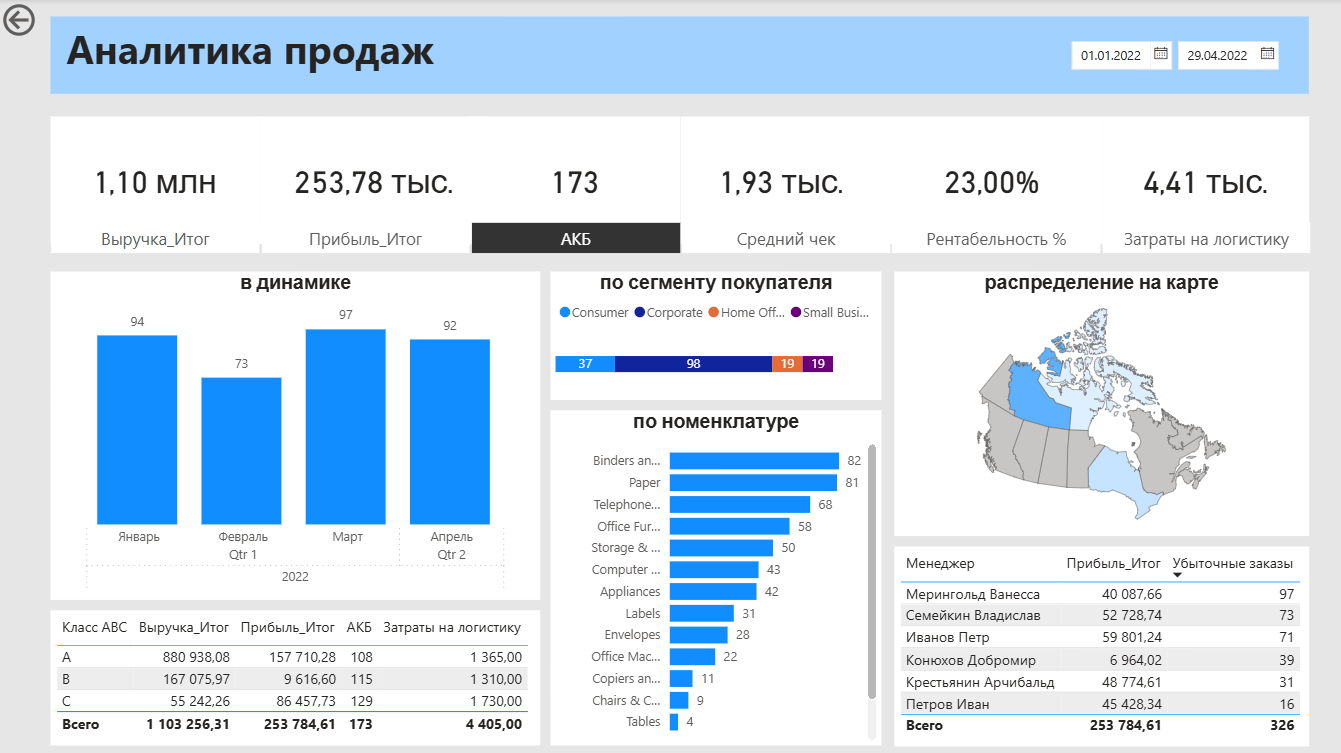

What the dashboard file says about the page in this screenshot:
{"tool":"powerbi","page":{"name":"Страница 1","canvas":[1280,720],"ordinal":0},"visuals":[{"type":"card","fields":{"Values":["Продажи.Выручка_Итог"]},"box":[50,111.9,198.8,121.4],"z":0},{"type":"card","fields":{"Values":["Продажи.Прибыль_Итог"]},"box":[248.8,111.9,217.9,121.4],"z":1000},{"type":"card","fields":{"Values":["Продажи.АКБ"]},"box":[448.8,111.9,201.2,121.4],"z":2000},{"type":"card","fields":{"Values":["Продажи.Средний чек"]},"box":[650,111.9,191.7,121.4],"z":3000},{"type":"card","fields":{"Values":["Продажи.Рентабельность %"]},"box":[841.7,111.9,209.5,121.4],"z":4000},{"type":"card","fields":{"Values":["Продажи.Затраты на логистику"]},"box":[1051.2,111.9,197.6,121.4],"z":5000},{"type":"columnChart","title":"в динамике","fields":{"Y":["Продажи.Рентабельность %"],"Category":["Календарь.Date.Изменение.Иерархия дат.Год","Календарь.Date.Изменение.Иерархия дат.Квартал","Календарь.Date.Изменение.Иерархия дат.Месяц"]},"box":[50,259.5,466.7,313.1],"z":6000},{"type":"barChart","title":"по сегменту покупателя","fields":{"Y":["Продажи.Рентабельность %"],"Series":["СПР_покупатели.Сегмент покупателя"]},"box":[526.2,259.5,315.5,122.6],"z":7000},{"type":"clusteredBarChart","title":"по номенклатуре","fields":{"Y":["Продажи.Рентабельность %"],"Category":["СПР_продукты.Категория продукта","СПР_продукты.Подкатегория продукта","СПР_продукты.Продукт"]},"box":[526.2,391.7,315.5,319],"z":8000},{"type":"actionButton","box":[0,0,100,40],"z":9000},{"type":"shapeMap","title":"распределение на карте","fields":{"Value":["Продажи.Рентабельность %"],"Category":["Продажи.Регион"]},"box":[853.6,259.5,395.2,252.4],"z":10000},{"type":"textbox","box":[50,16.2,1198.8,73.8],"z":11000},{"type":"slicer","fields":{"Values":["Календарь.Date"]},"box":[1010,30,226.2,47.5],"z":12000},{"type":"tableEx","fields":{"Values":["СПР_Менеджеры.Менеджер","Продажи.Прибыль_Итог","Продажи.Убыточные заказы"]},"box":[853.8,521.2,395,190],"z":13000},{"type":"tableEx","fields":{"Values":["СПР_продукты.Класс ABC","Продажи.Выручка_Итог","Продажи.Прибыль_Итог","Продажи.АКБ","Продажи.Затраты на логистику"]},"box":[50,582.5,466.2,128.8],"z":14000},{"type":"slicer","fields":{"Values":["Выбор метки.Выбор метки"]},"box":[29.8,206,1239.3,36.9],"z":15000}]}

Visuals, with their boxes in screenshot pixels (x1, y1, x2, y2), scaled from the page's 1280x720 canvas onto the 1341x753 screenshot:
card - Продажи.Выручка_Итог: box(52, 117, 261, 244)
card - Продажи.Прибыль_Итог: box(261, 117, 489, 244)
card - Продажи.АКБ: box(470, 117, 681, 244)
card - Продажи.Средний чек: box(681, 117, 882, 244)
card - Продажи.Рентабельность %: box(882, 117, 1101, 244)
card - Продажи.Затраты на логистику: box(1101, 117, 1308, 244)
"в динамике" columnChart: box(52, 271, 541, 599)
"по сегменту покупателя" barChart: box(551, 271, 882, 400)
"по номенклатуре" clusteredBarChart: box(551, 410, 882, 743)
actionButton: box(0, 0, 105, 42)
"распределение на карте" shapeMap: box(894, 271, 1308, 535)
textbox: box(52, 17, 1308, 94)
slicer - Календарь.Date: box(1058, 31, 1295, 81)
tableEx - СПР_Менеджеры.Менеджер x Продажи.Прибыль_Итог: box(894, 545, 1308, 744)
tableEx - СПР_продукты.Класс ABC x Продажи.Выручка_Итог: box(52, 609, 541, 744)
slicer - Выбор метки.Выбор метки: box(31, 215, 1330, 254)
